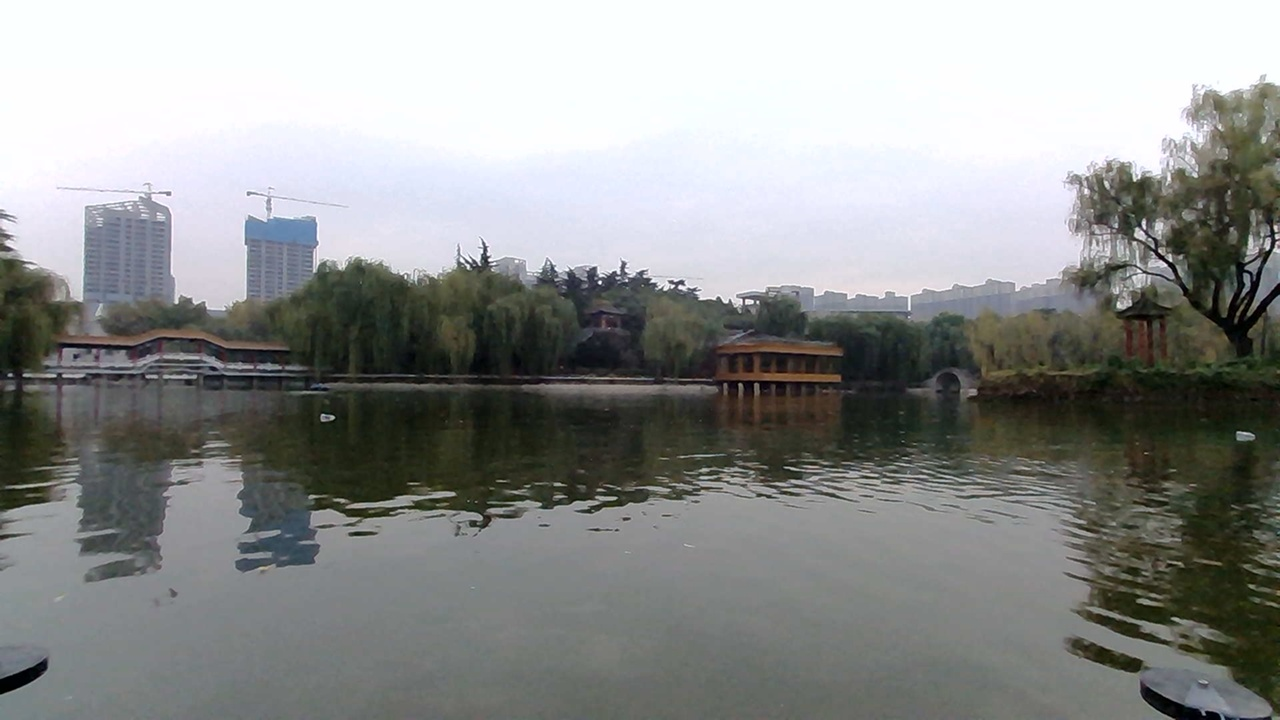bottle: (1226, 414, 1272, 448), (314, 402, 359, 426)
